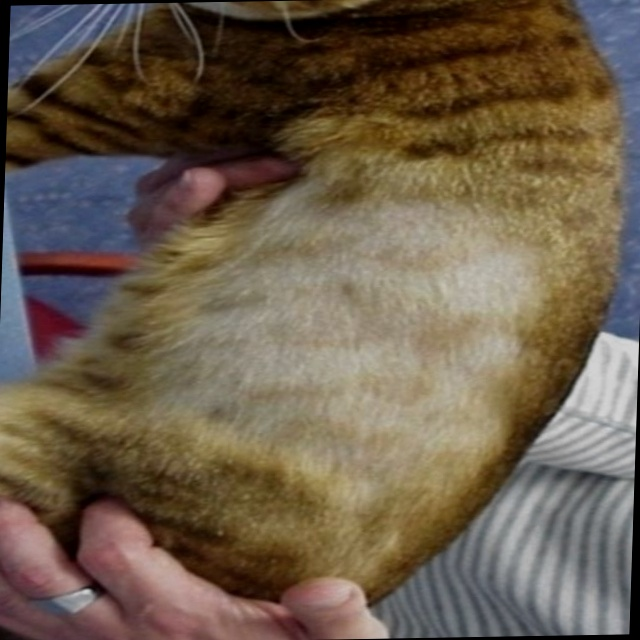hairloss: (160, 186, 574, 440)
